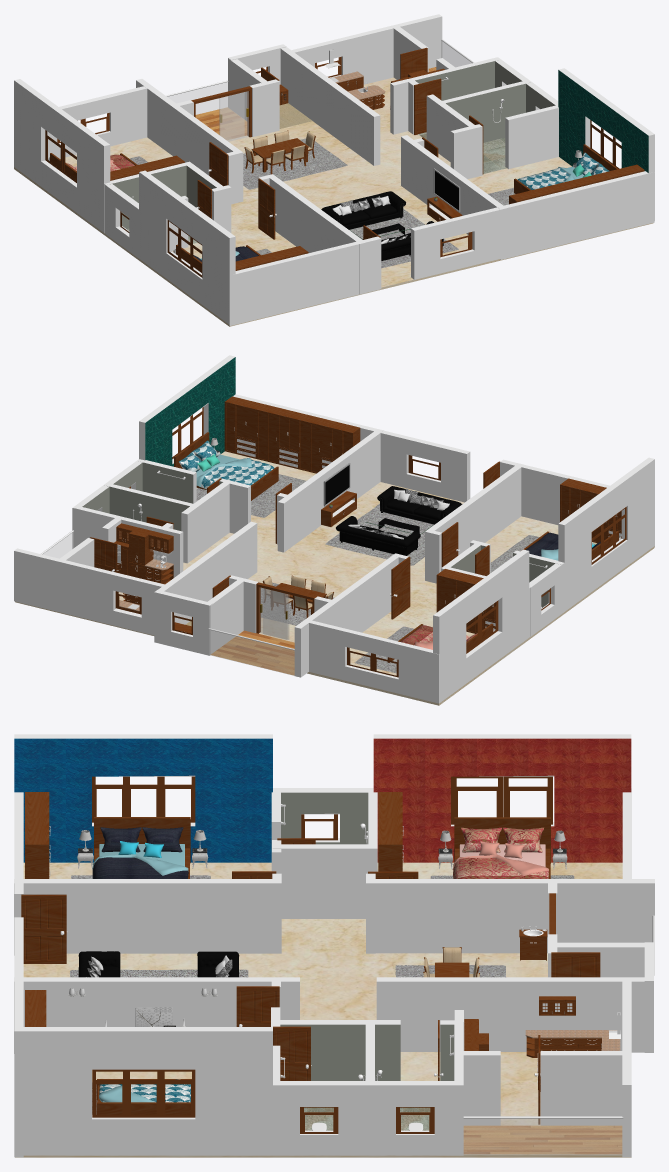
File: apartamento_3hab-compressed.glb
3 renders of one model, top to bottom at view 1: azimuth 30°, elevation 25°; view 2: azimuth 150°, elevation 25°; view 3: azimuth 270°, elevation 25°, orthographic. The views are drawn at different scales.
Parts seen in each view (by area): view 1: node_3BHK west_23840_223, node_WALL8_23612_231, node_WINDOW WALL (3)_23604_229, node_WINDOW WALL (1)_23994_271, node_WALL2_23650_240, node_WALL14_24352_286, node_WINDOW WALL (4)_24372_273, node_WINDOW WALL (9)_24176_276, node_WALL6_23864_280, node_WALL15_23736_255, node_WALL7_24012_281, node_WINDOW WALL (2)_24016_272 (+40 smaller); view 2: node_3BHK west_23840_223, node_WINDOW WALL (1)_23994_271, node_WINDOW WALL (3)_23604_229, node_WINDOW WALL (2)_24016_272, node_WINDOW WALL (4)_24372_273, node_WALL7_24012_281, node_WALL17_24068_288, node_WINDOW WALL (9)_24176_276, node_WALL15_23736_255, node_WALL6_23864_280, node_WALL14_24352_286, node_WINDOW WALL (8)_23884_275 (+44 smaller); view 3: node_WINDOW WALL (4)_24372_273, node_3BHK west_23840_223, node_WINDOW WALL (3)_23604_229, node_WINDOW WALL (1)_23994_271, node_WALL15_23736_255, node_WALL6_23864_280, node_WALL14_24352_286, node_WALL7_24012_281, node_WALL5_24310_279, node_WINDOW WALL (6)_23770_259, node_WINDOW WALL (5)_24190_274, node_WALL22_24150_290 (+48 smaller).
Boxes of the visible parts, x1,y1,x2,y2 form: node_3BHK west_23840_223: (14, 77, 653, 326); node_WALL8_23612_231: (504, 171, 654, 258); node_WINDOW WALL (3)_23604_229: (139, 170, 235, 324); node_WINDOW WALL (1)_23994_271: (14, 79, 110, 232); node_WALL2_23650_240: (229, 241, 359, 325); node_WALL14_24352_286: (280, 47, 380, 165); node_WINDOW WALL (4)_24372_273: (558, 68, 654, 220); node_WINDOW WALL (9)_24176_276: (411, 207, 500, 279); node_WALL6_23864_280: (267, 174, 365, 294); node_WALL15_23736_255: (136, 79, 239, 175); node_WALL7_24012_281: (401, 135, 506, 259); node_WINDOW WALL (2)_24016_272: (47, 86, 147, 159); node_3BHK west_23840_223: (15, 450, 654, 705); node_WINDOW WALL (1)_23994_271: (433, 549, 529, 702); node_WINDOW WALL (3)_23604_229: (558, 457, 654, 611); node_WINDOW WALL (2)_24016_272: (309, 620, 439, 703); node_WINDOW WALL (4)_24372_273: (139, 355, 235, 466); node_WALL7_24012_281: (277, 429, 383, 552); node_WALL17_24068_288: (14, 548, 95, 620); node_WINDOW WALL (9)_24176_276: (380, 430, 470, 502); node_WALL15_23736_255: (294, 555, 398, 677); node_WALL6_23864_280: (425, 463, 524, 555); node_WALL14_24352_286: (158, 521, 257, 624); node_WINDOW WALL (8)_23884_275: (92, 567, 164, 635); node_WINDOW WALL (4)_24372_273: (14, 1027, 272, 1155); node_3BHK west_23840_223: (15, 862, 631, 1157); node_WINDOW WALL (3)_23604_229: (14, 734, 272, 862); node_WINDOW WALL (1)_23994_271: (373, 734, 631, 862); node_WALL15_23736_255: (375, 879, 654, 953); node_WALL6_23864_280: (14, 879, 280, 955); node_WALL14_24352_286: (376, 977, 653, 1052); node_WALL7_24012_281: (14, 977, 299, 1053); node_WALL5_24310_279: (272, 844, 377, 918); node_WINDOW WALL (6)_23770_259: (366, 1081, 463, 1155); node_WINDOW WALL (5)_24190_274: (271, 1081, 367, 1155); node_WALL22_24150_290: (540, 1051, 622, 1125).
Bounding box in the file's own units: 18.78 × 3.75 × 17.12.
Materials: 54 (32 with a texture image).
